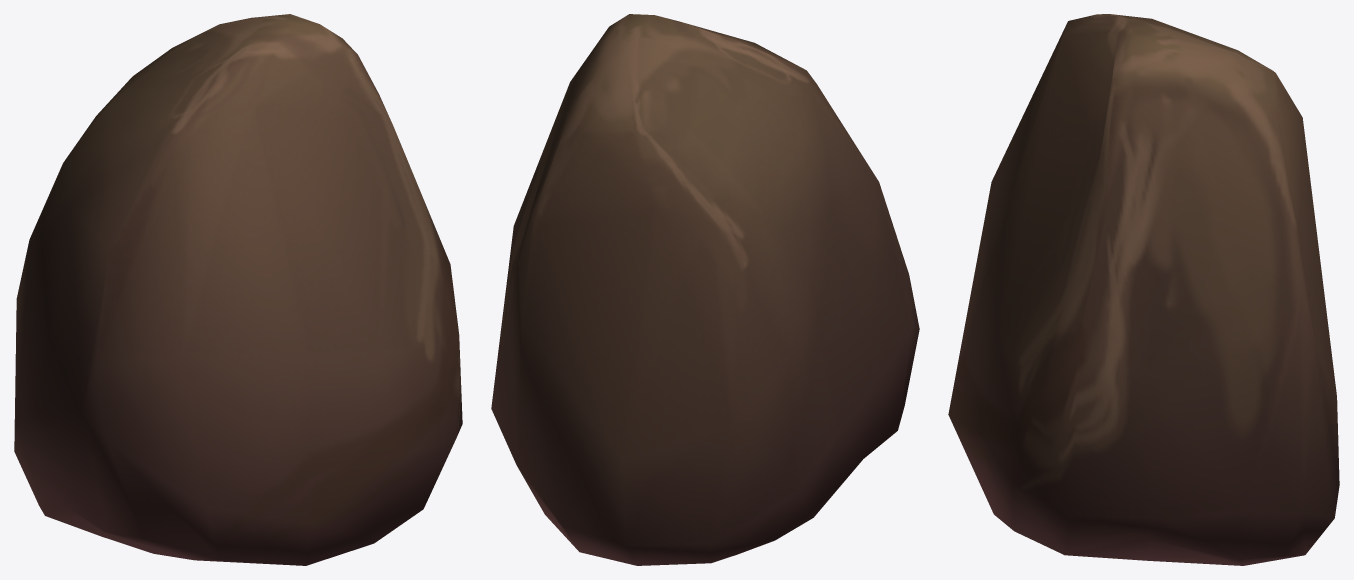
Rendered from Rock002.glb.
3 renders of one model, left to right at view 1: azimuth 30°, elevation 25°; view 2: azimuth 150°, elevation 25°; view 3: azimuth 270°, elevation 25°, orthographic. The views are drawn at different scales.
Visible parts, largest first — view 1: Cube.008; view 2: Cube.008; view 3: Cube.008.
Boxes of the visible parts, box(x1,y1,x2,y2) form: Cube.008: box(14, 14, 462, 565); Cube.008: box(491, 14, 919, 565); Cube.008: box(948, 14, 1339, 565).
Size of the model in its own units: 0.6262 by 0.7934 by 0.534.
Materials: 1 (1 with a texture image).
